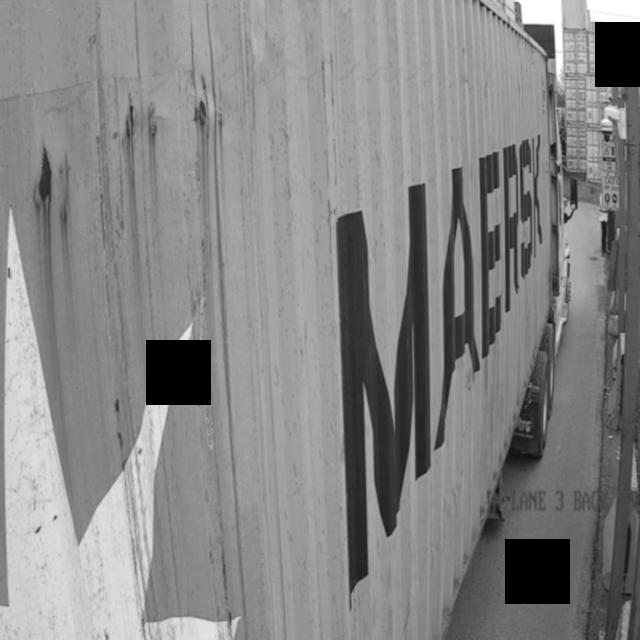container_company_logo: (337, 184, 432, 588), (433, 126, 548, 448)
driver: (591, 167, 614, 265)
truck_with_container: (0, 0, 569, 640)
